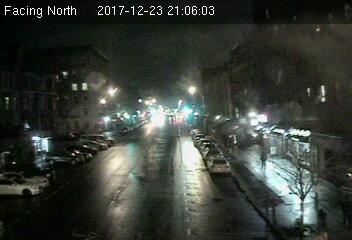car: (208, 156, 231, 173)
pedestrian: (258, 150, 269, 172)
